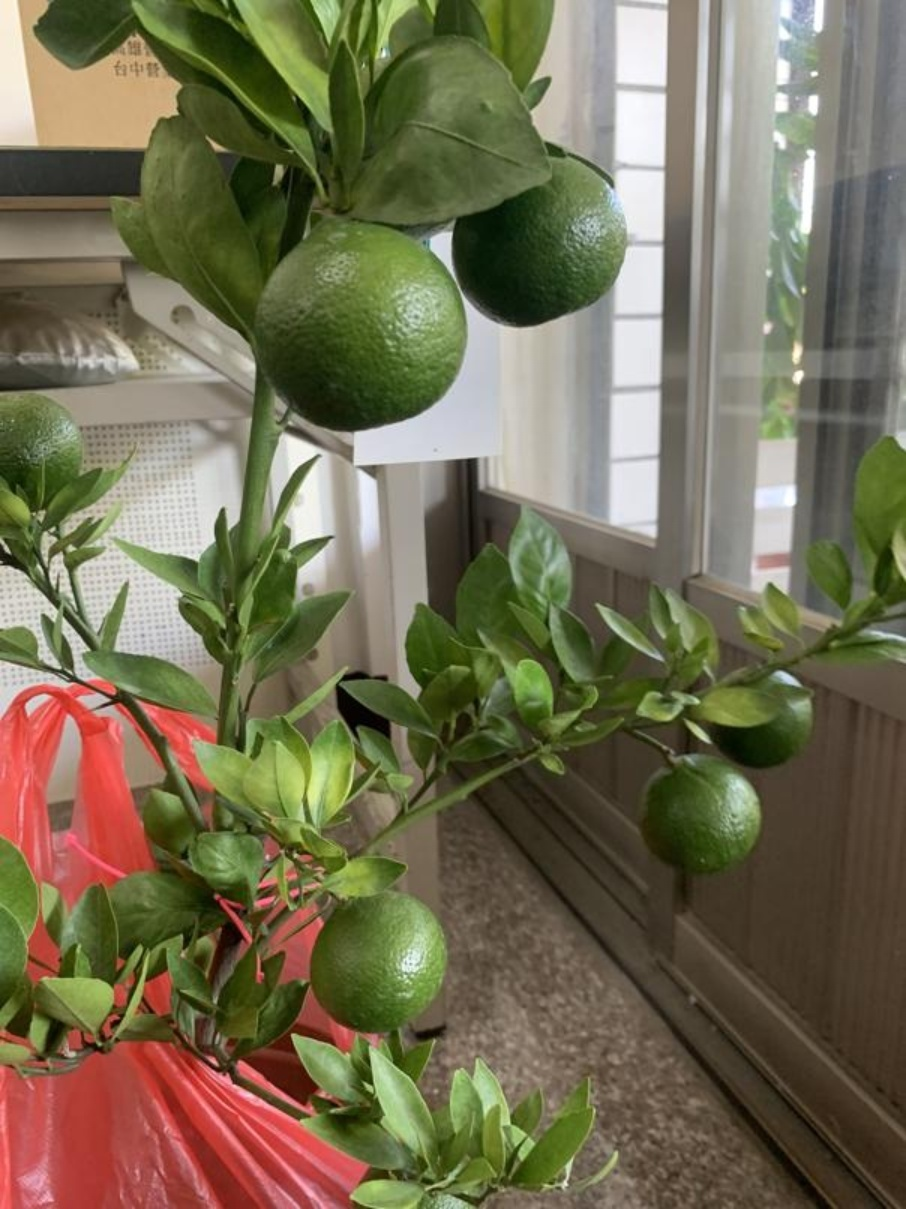Tangerine: (243, 209, 468, 431), (453, 156, 628, 326), (311, 889, 445, 1035), (641, 747, 764, 878), (0, 385, 85, 516)
